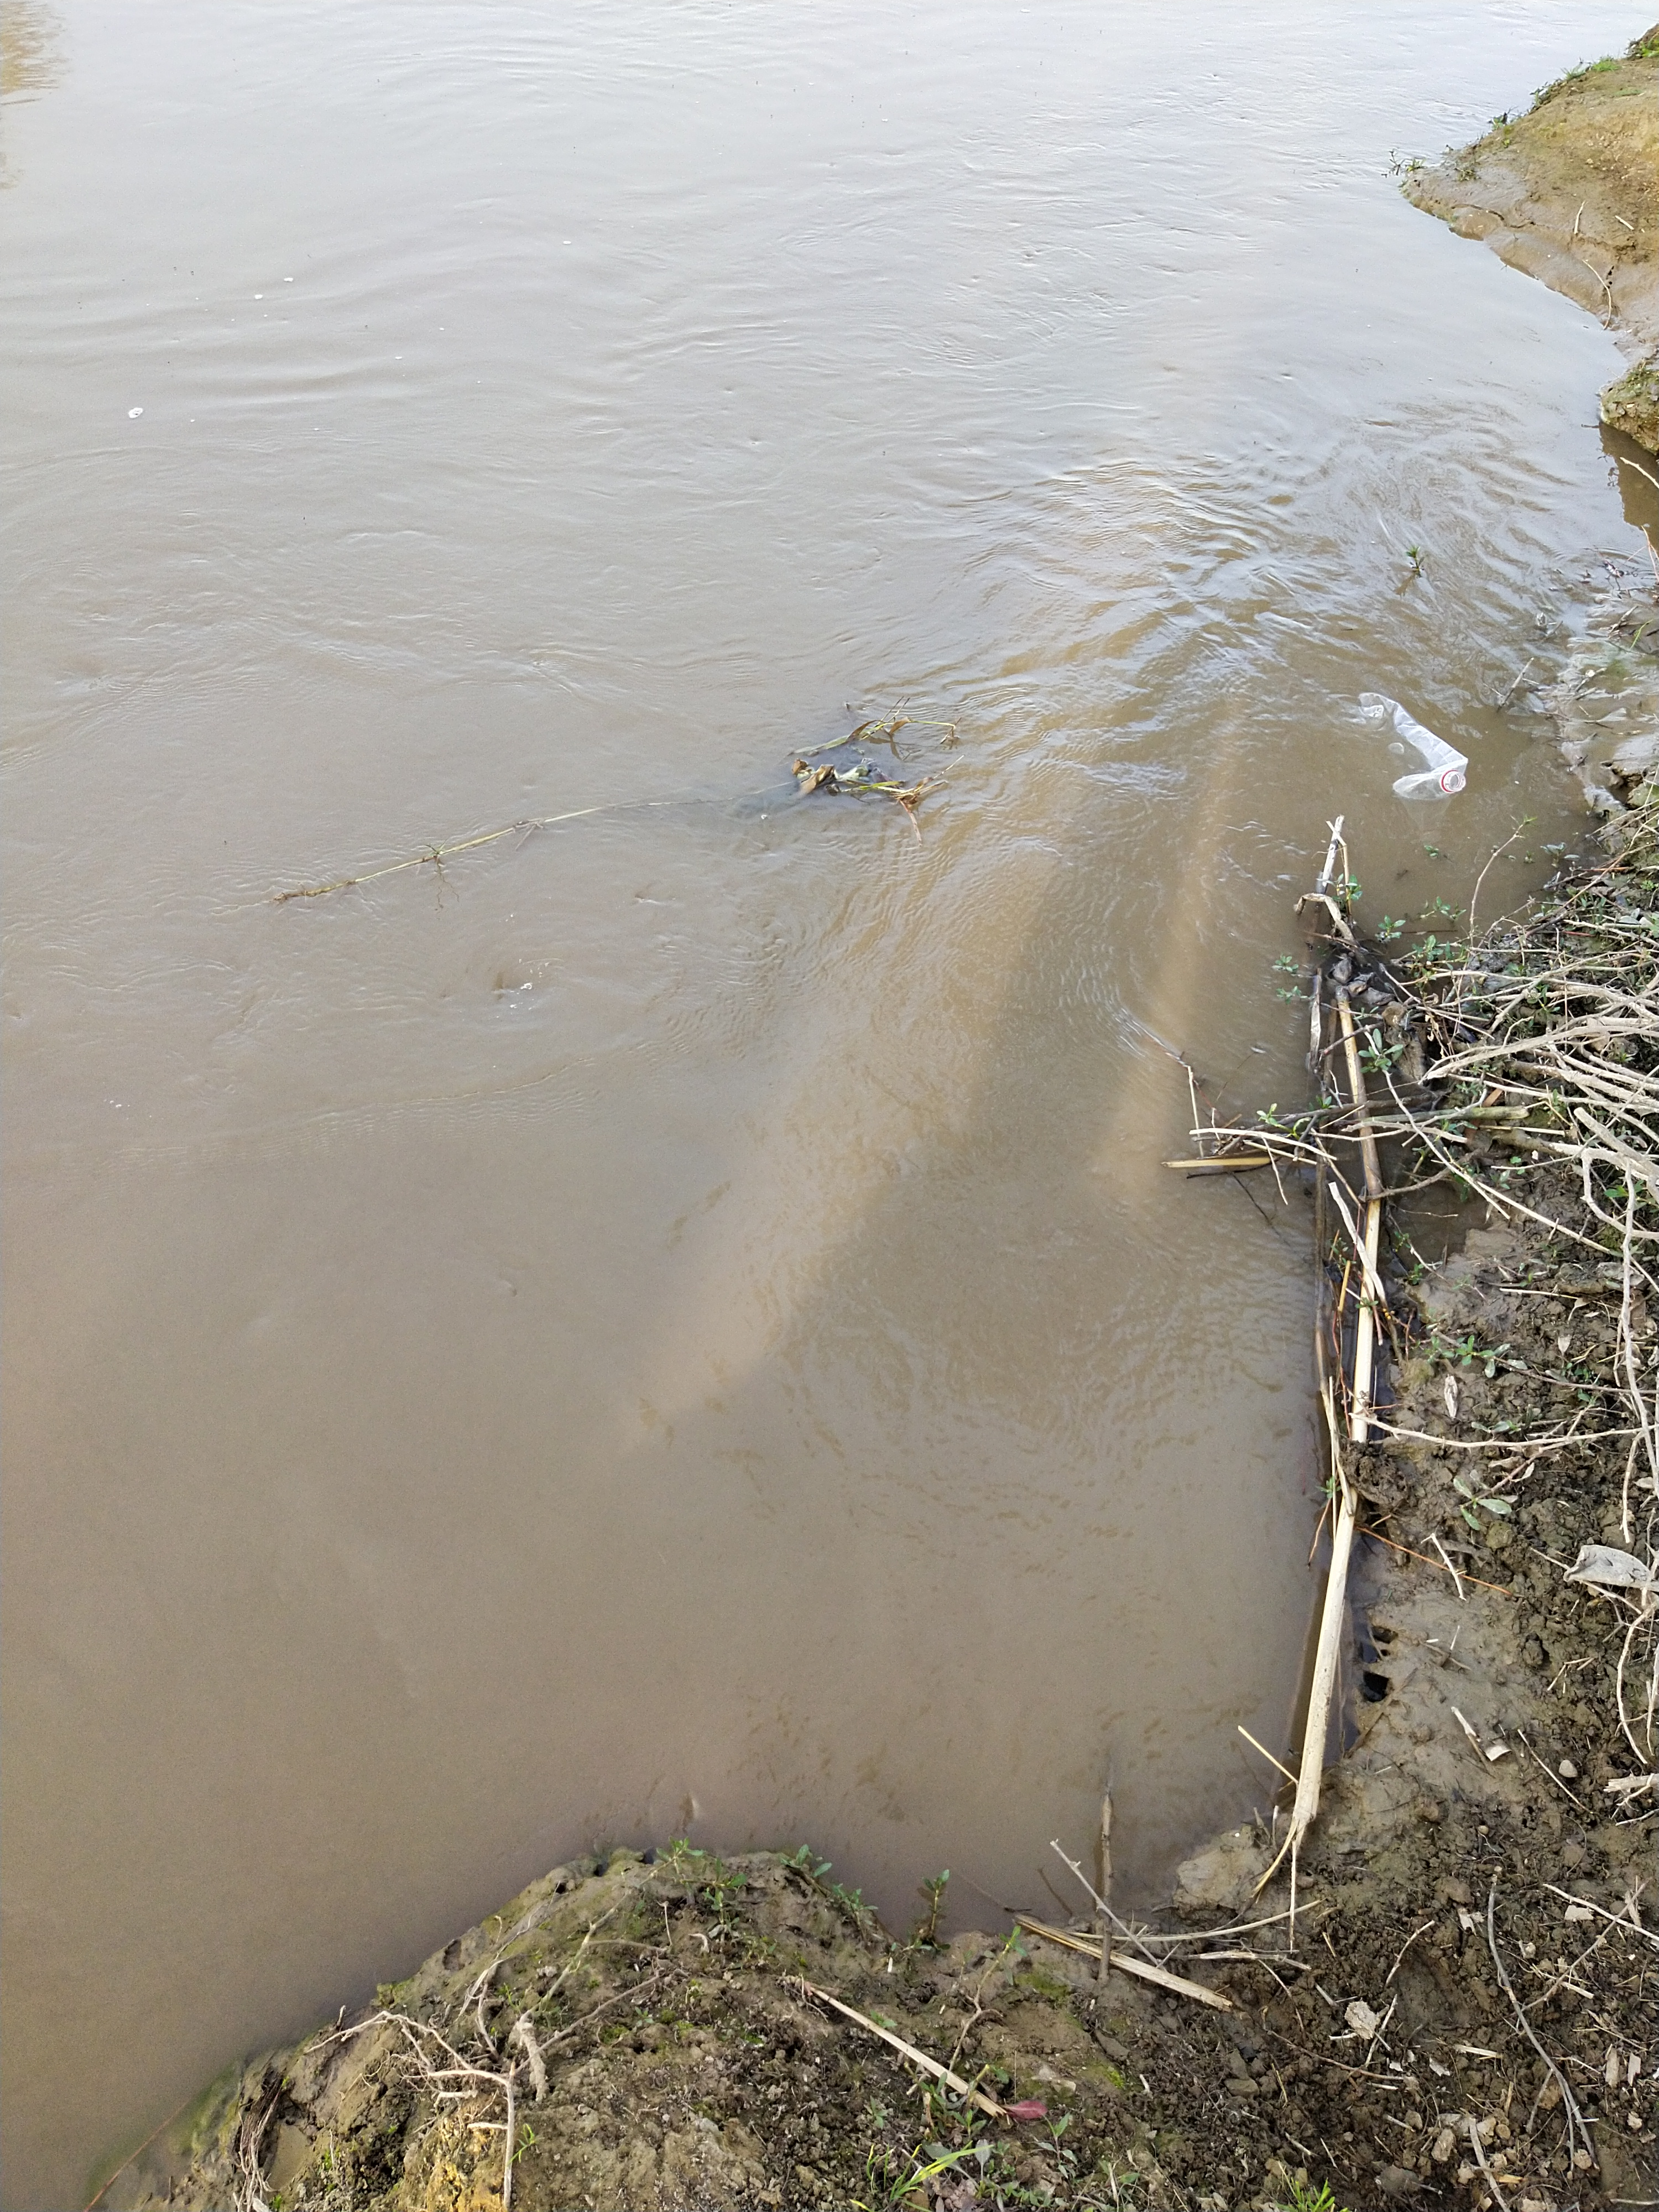Plastic Bottle: (1359, 691, 1467, 799)
